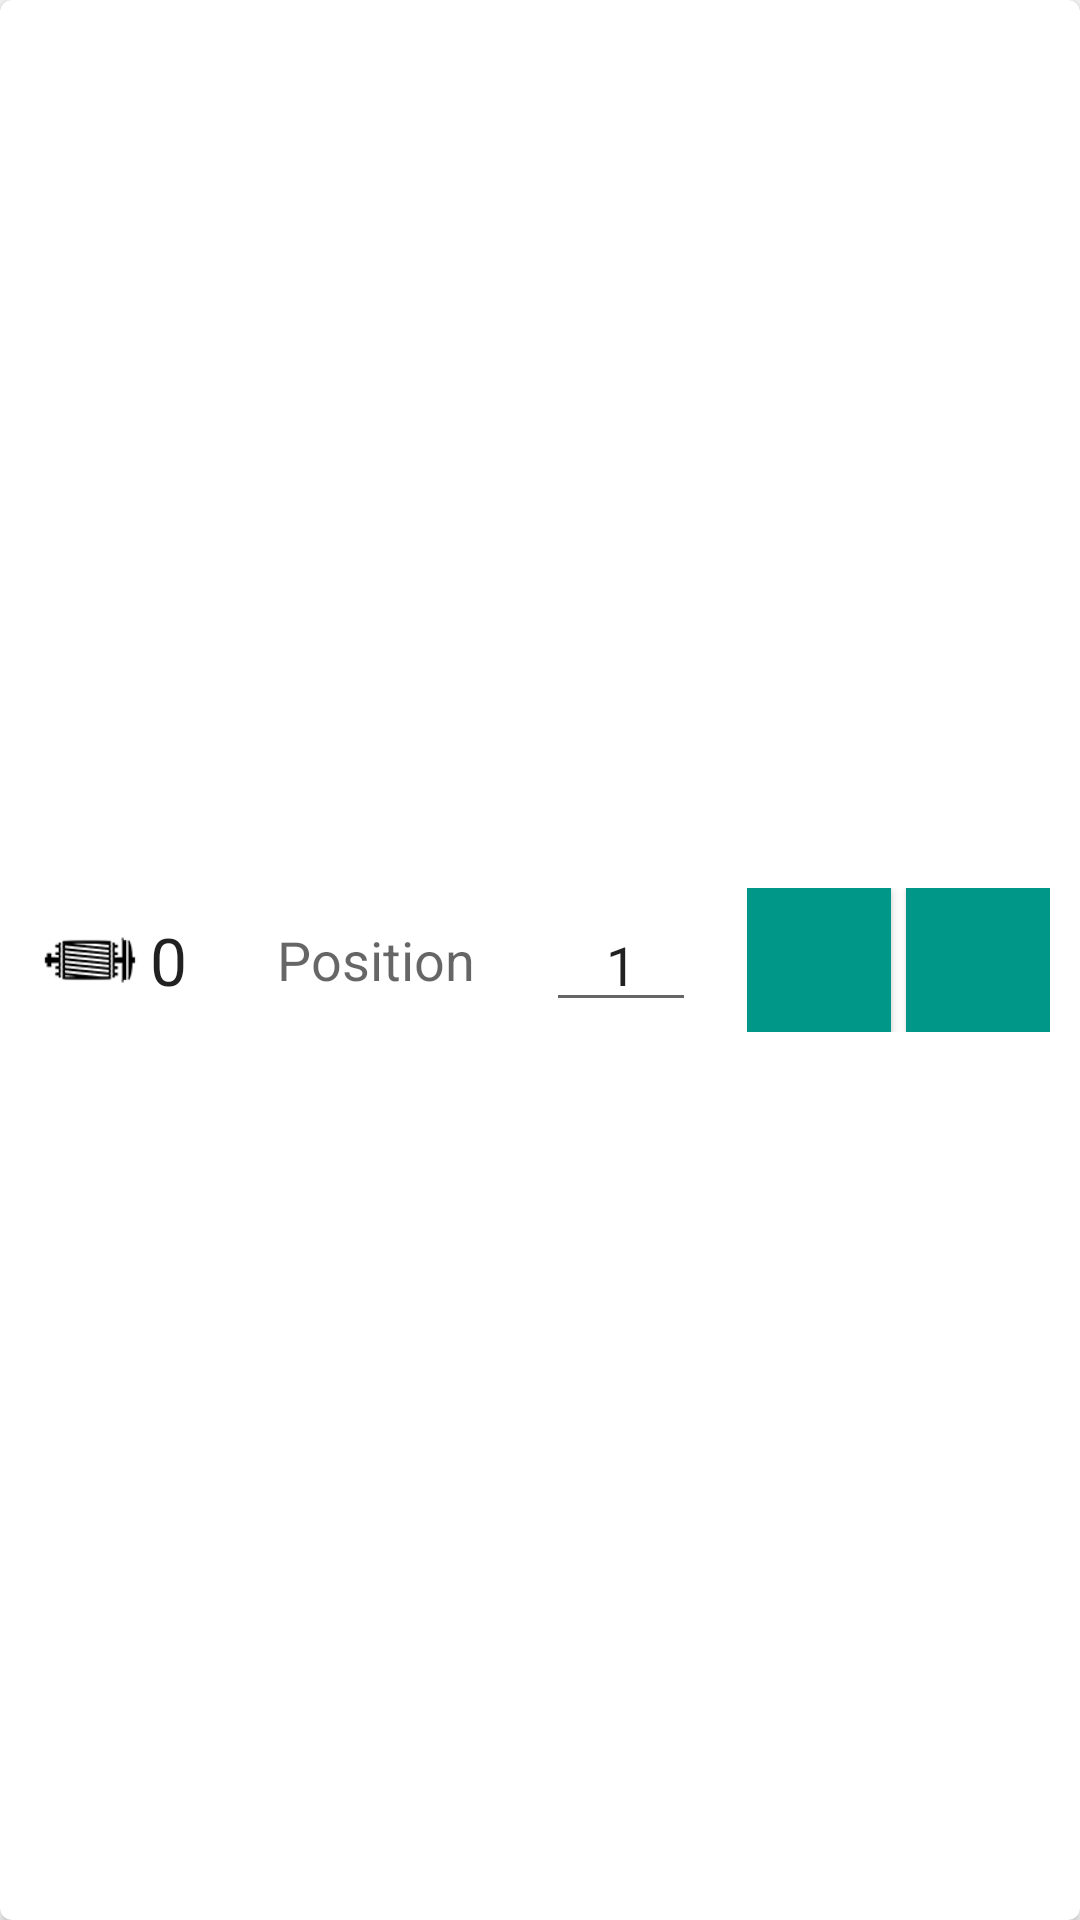

Named icons in this screenshot (1080px x 1920px) and their bounding boxes, (x1, y1, x2, y2):
rotor: (44, 937, 136, 983)
